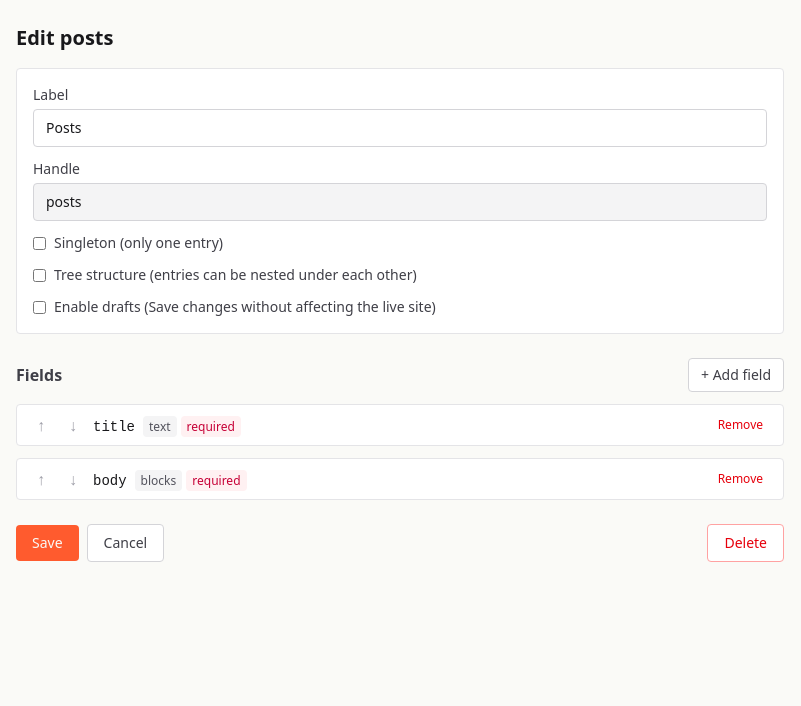
Test case: BlueprintEditor › switching kind to replicator reveals the sets editor
Click the button with test id "field-expand-0".
click(167, 425)  # box [93,413,241,437]
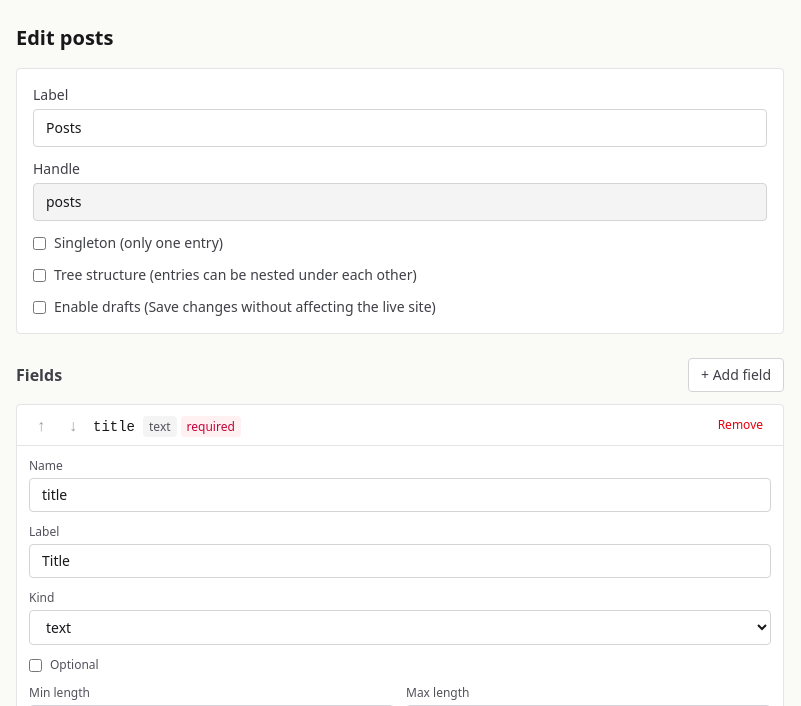
Select "replicator" in the dropdown with test id "field-kind-0" at (400, 628), box [29,610,771,645]
(page scrolled)
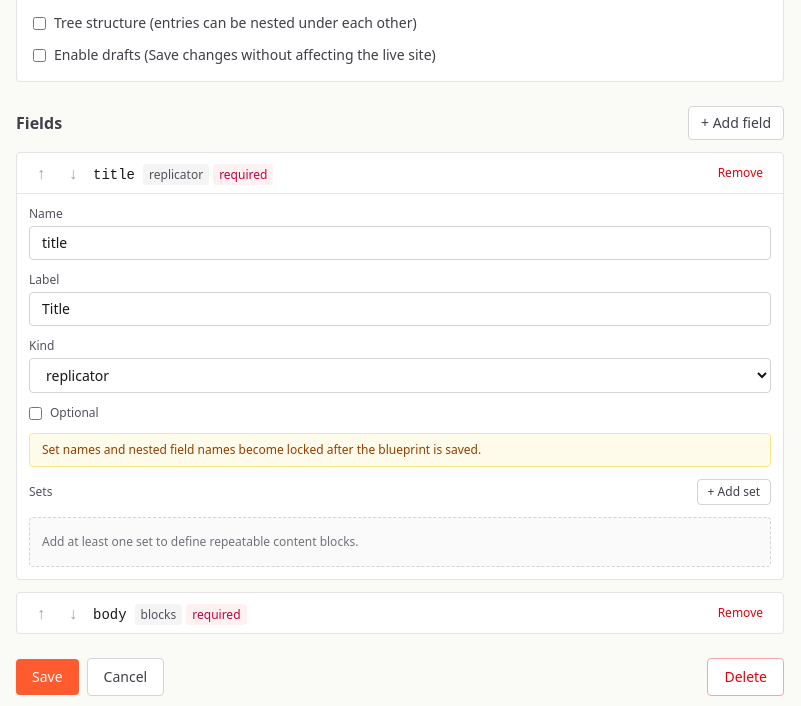
Now the button with test id "replicator-add-set-0" is shown, box [697,479,771,505]
